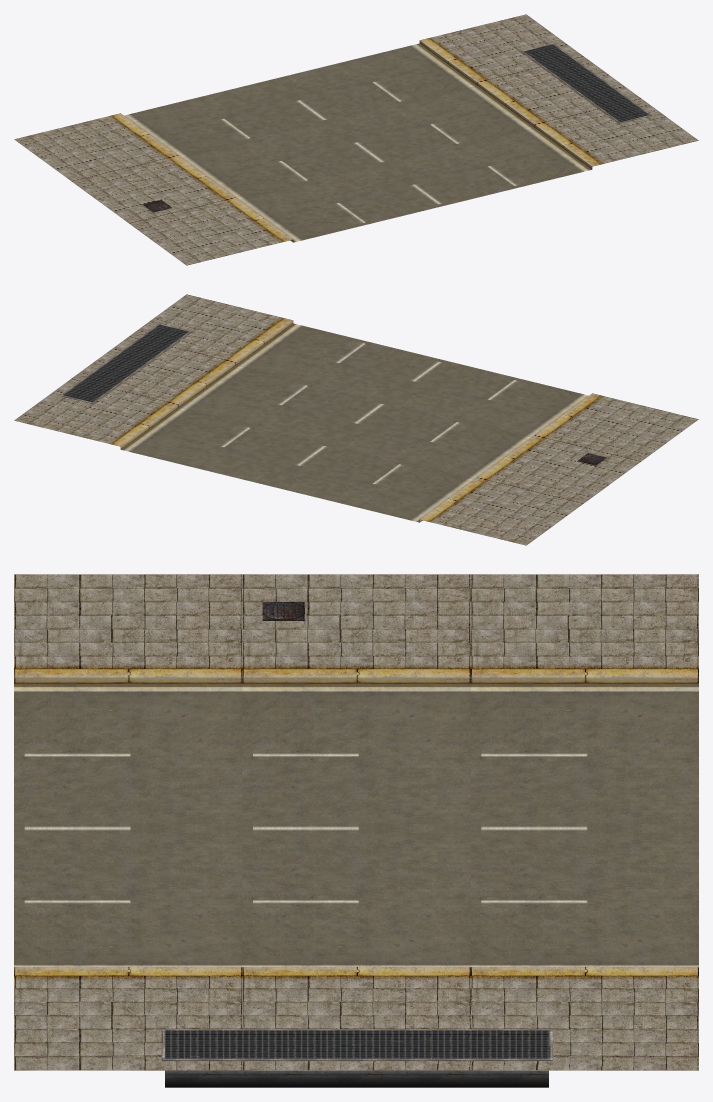
Rendered from Road2_Part_07_B.fbx.
3 views of the same model, one above another, from view 1: azimuth 30°, elevation 25°; view 2: azimuth 150°, elevation 25°; view 3: azimuth 270°, elevation 25° (orthographic). The views are drawn at different scales.
Parts seen in each view (by area): view 1: Model_Road2_Part_07_B; view 2: Model_Road2_Part_07_B; view 3: Model_Road2_Part_07_B.
Part boxes in pixels (x1=…): Model_Road2_Part_07_B: x1=14, y1=14, x2=698, y2=265; Model_Road2_Part_07_B: x1=14, y1=294, x2=698, y2=545; Model_Road2_Part_07_B: x1=14, y1=574, x2=698, y2=1087.
Bounding box in the file's own units: 2400 × 65.51 × 1400.
